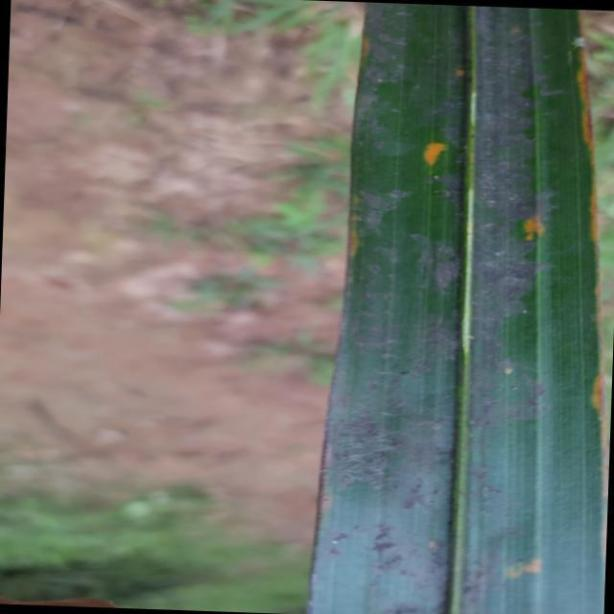Kalium: (308, 0, 604, 614)
